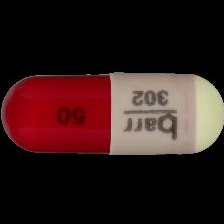51079-078: (0, 0, 224, 224)
